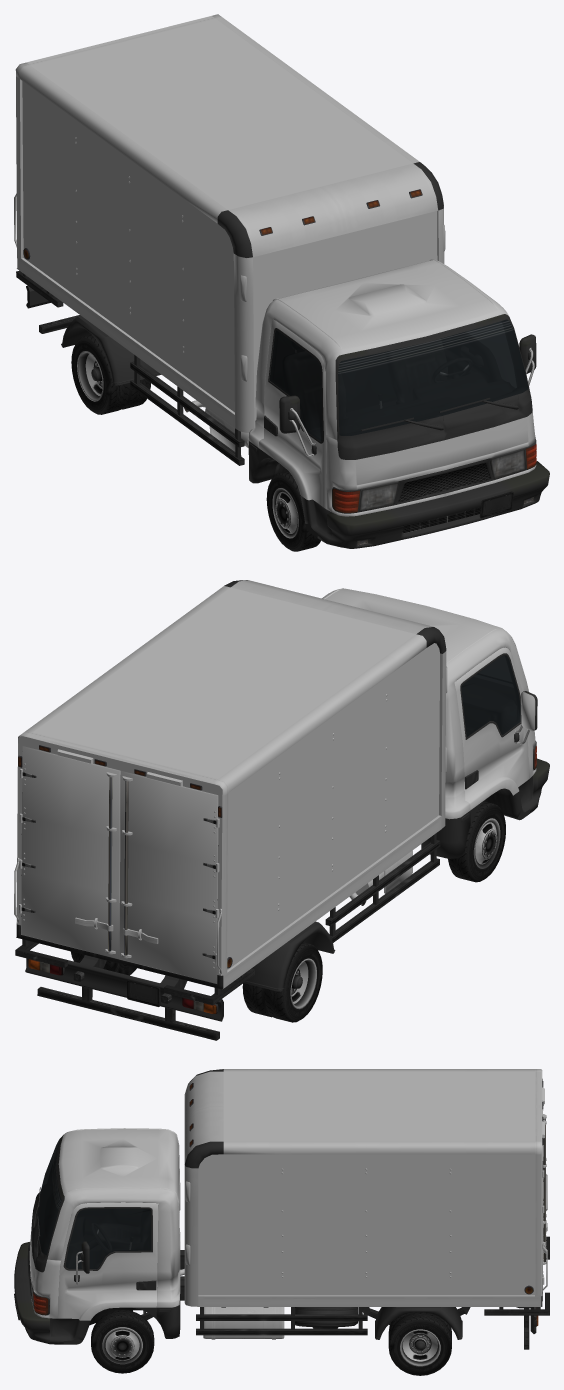
File: veicolo_epoca_camioncino.glb
3 views of the same model, one above another, from view 1: azimuth 30°, elevation 25°; view 2: azimuth 150°, elevation 25°; view 3: azimuth 270°, elevation 25° (orthographic). The views are drawn at different scales.
Visible parts, largest first — view 1: sb_modello; view 2: sb_modello; view 3: sb_modello.
Boxes of the visible parts, <box> form: sb_modello: <box>14,14,549,551</box>; sb_modello: <box>14,580,549,1040</box>; sb_modello: <box>14,1069,549,1375</box>.
Bounding box in the file's own units: 2.61 × 2.85 × 6.02.
Materials: 6 (5 with a texture image).
